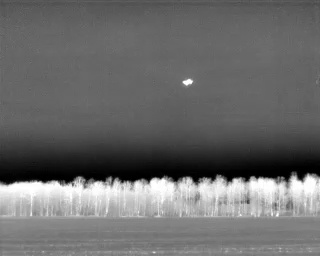DRONE: (179, 74, 197, 90)
